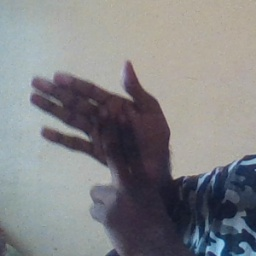N: (26, 55, 174, 220)
